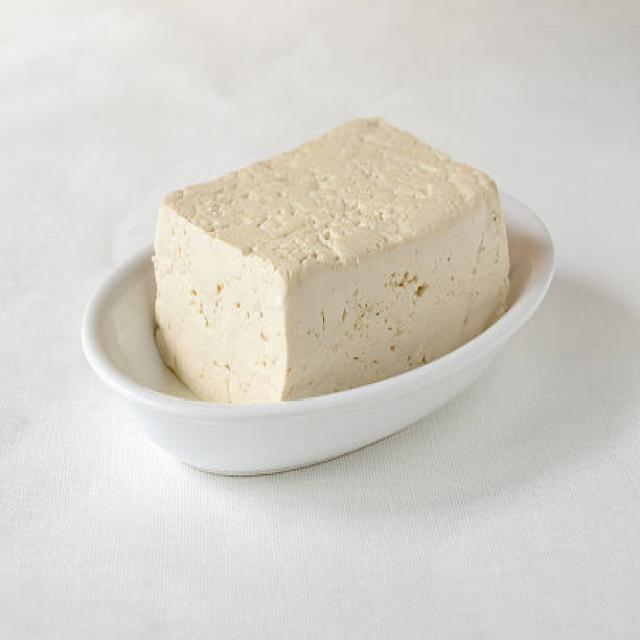Tofu Block: (151, 117, 513, 337)
